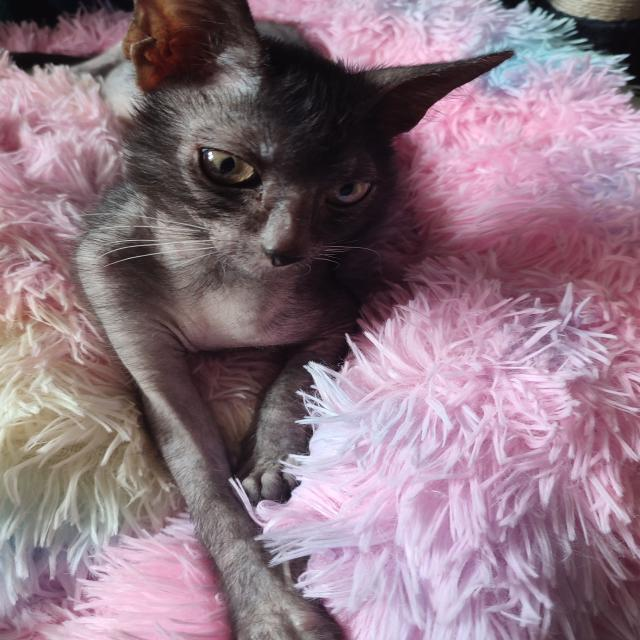Lykoi: (1, 0, 518, 640)
